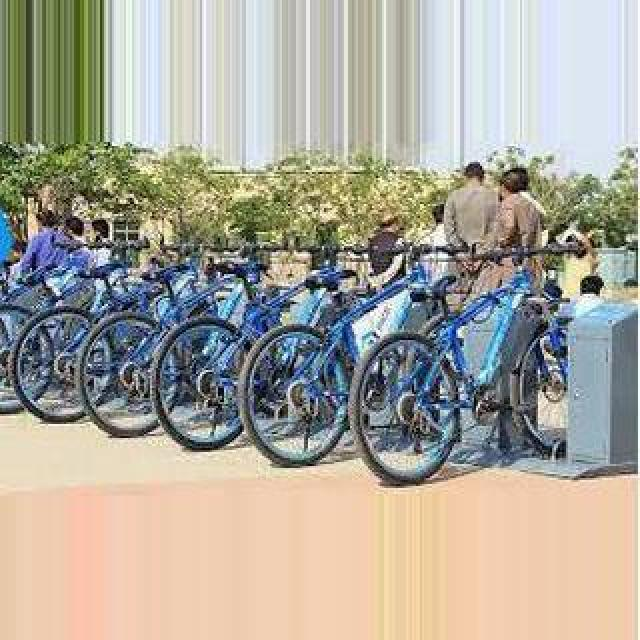MC-Bike: (442, 160, 498, 252), (494, 168, 546, 258)
Person: (242, 240, 470, 466), (354, 258, 576, 484), (156, 242, 374, 450), (80, 242, 274, 438), (10, 238, 180, 424)
